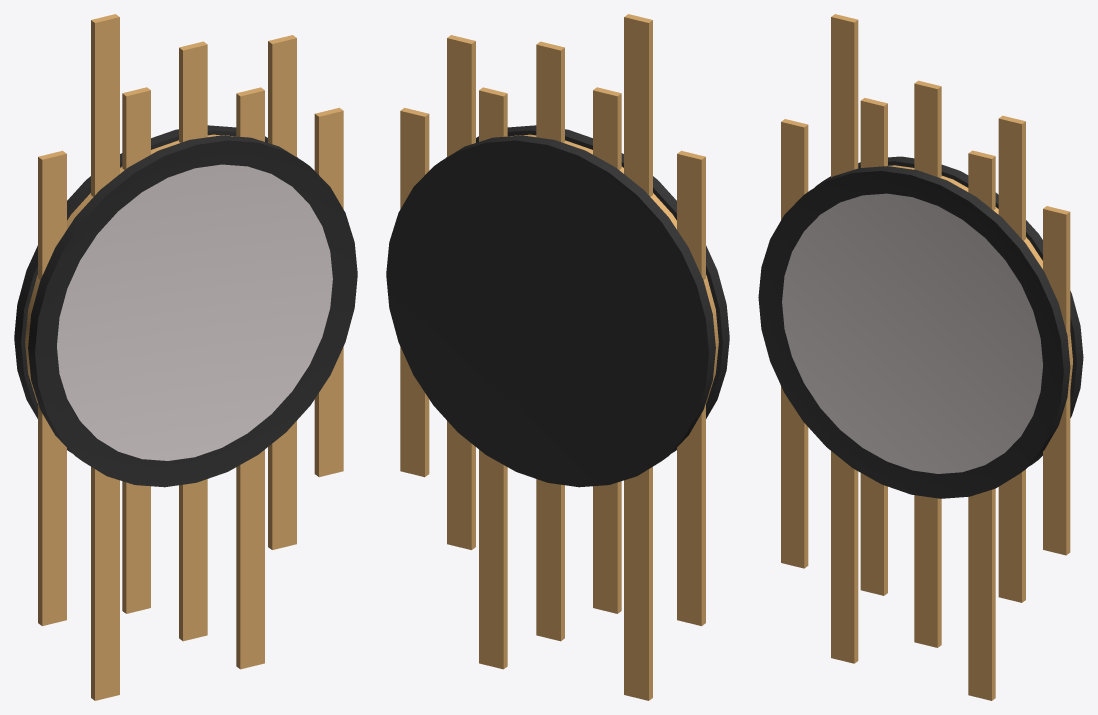
File: LightWall1.fbx
The picture shows the model from 3 angles, left to right: view 1: azimuth 30°, elevation 25°; view 2: azimuth 150°, elevation 25°; view 3: azimuth 330°, elevation 25°; orthographic projection. The views are drawn at different scales.
Visible parts, largest first — view 1: LightWall1; view 2: LightWall1; view 3: LightWall1.
Part boxes in pixels (x1,y1,x2,y2): LightWall1: (14,14,357,700); LightWall1: (386,14,729,700); LightWall1: (758,14,1083,700).
Size of the model in its own units: 77.82 by 157 by 8.69.
